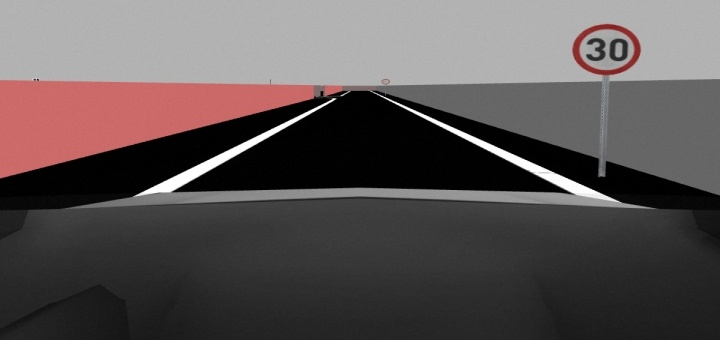hiz_30: (571, 23, 640, 80)
